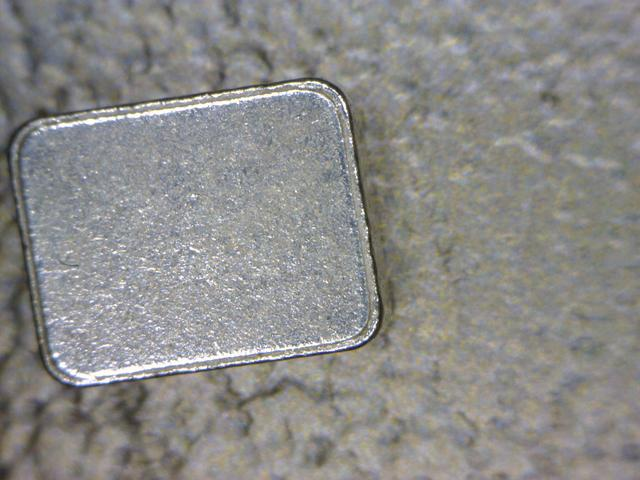nok: (8, 72, 395, 392)
